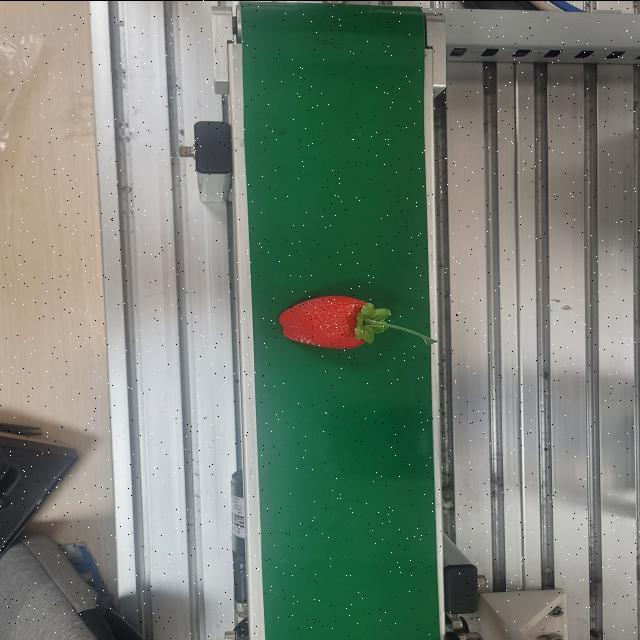Large Ripe Strawberry: (274, 292, 436, 350)
conveyor: (236, 6, 449, 640)
